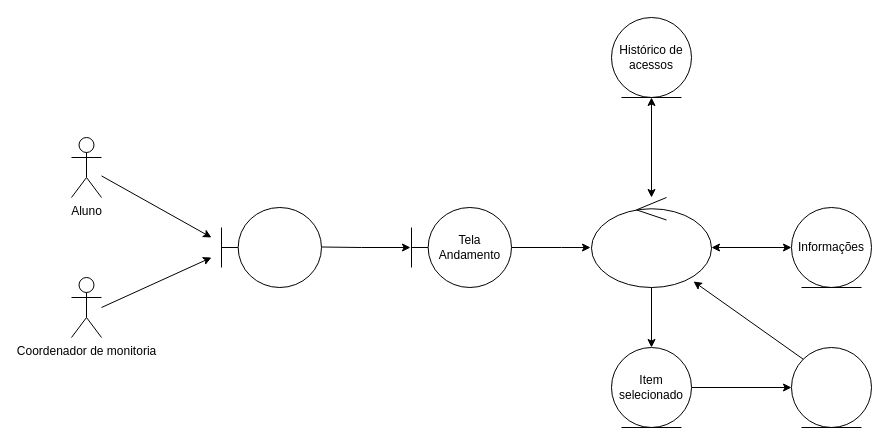
The diagram is 889 pixels wide and 445 high, and some of its shapes have lost their labels. Here are the shapes that lost their labels. From the top down, the centre of each, then its label:
At point (271, 247): "Tela Monitoria".
At point (651, 242): "Controlador Andamento".
At point (831, 387): "Relatório completo".
